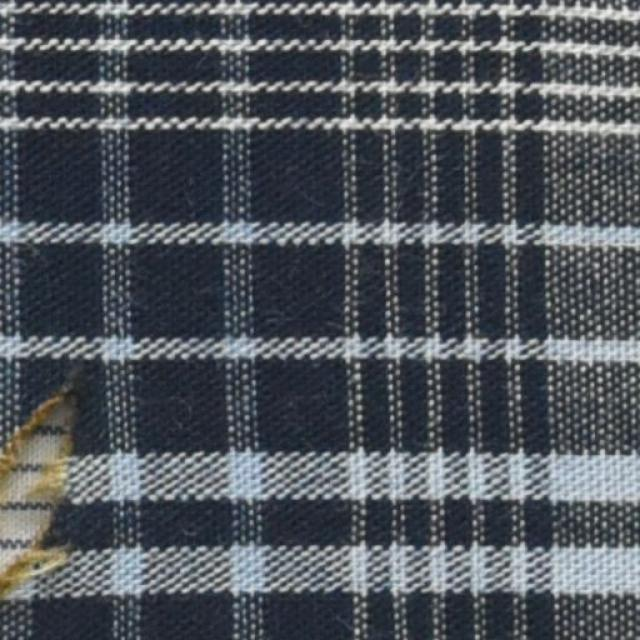Hole: (6, 423, 63, 558)
Stain: (0, 386, 89, 596)
